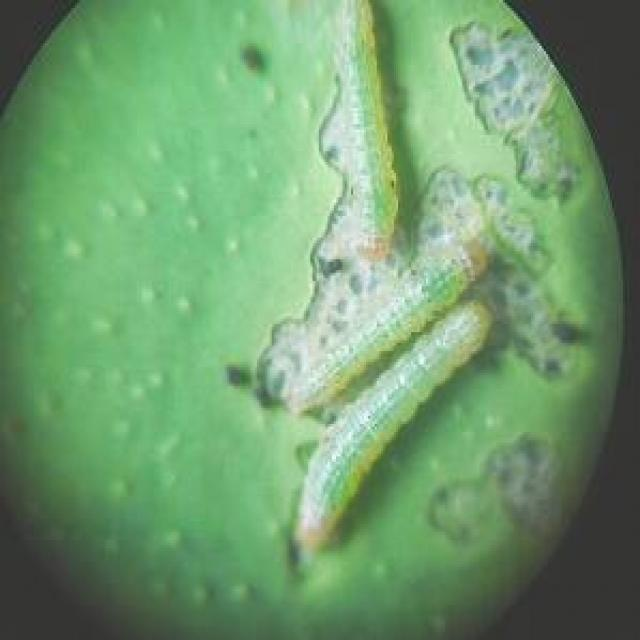armyworm: (285, 251, 504, 548), (330, 18, 413, 268)
